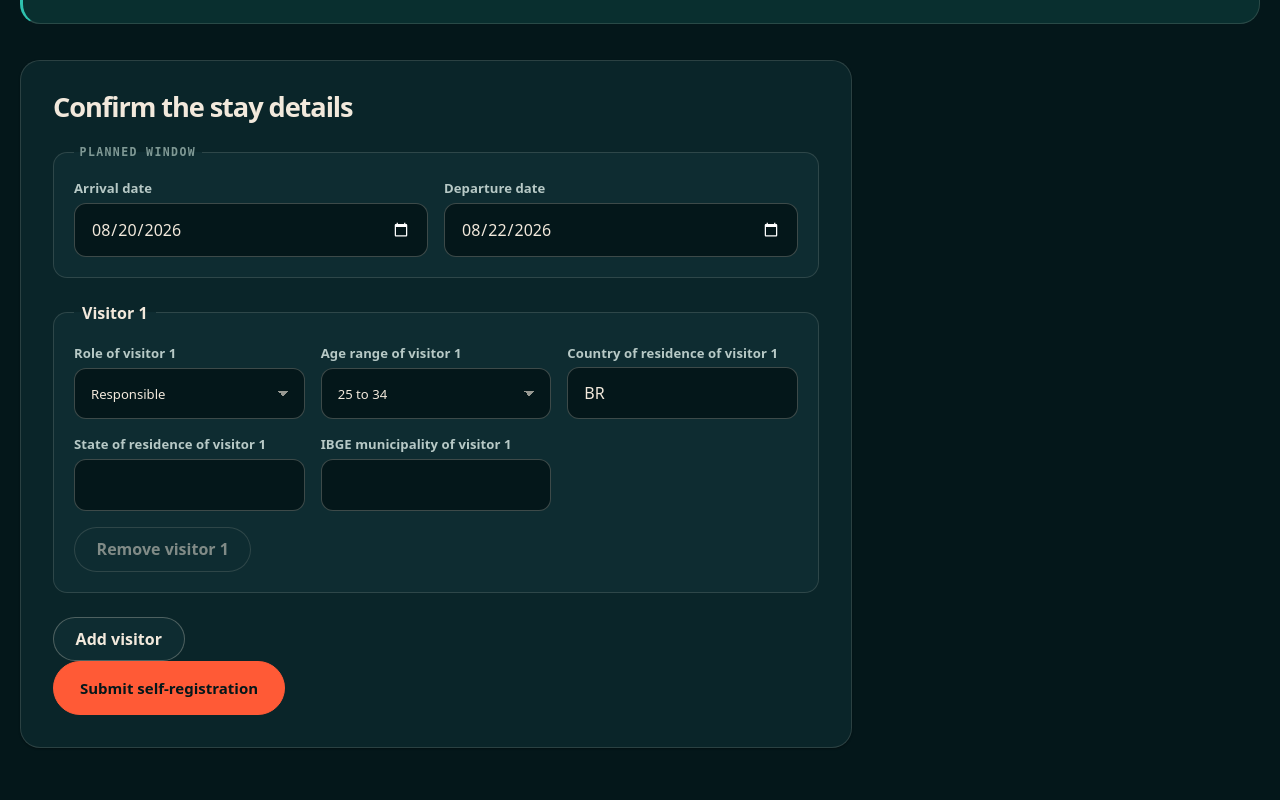
Scenario: i18n do formulário aberto (en) › mostra a confirmação de envio no idioma selecionado
(page scrolled)
Type "BA" into the field labelled "State of residence of visitor 1". click: (189, 485)
box: [74, 459, 305, 511]
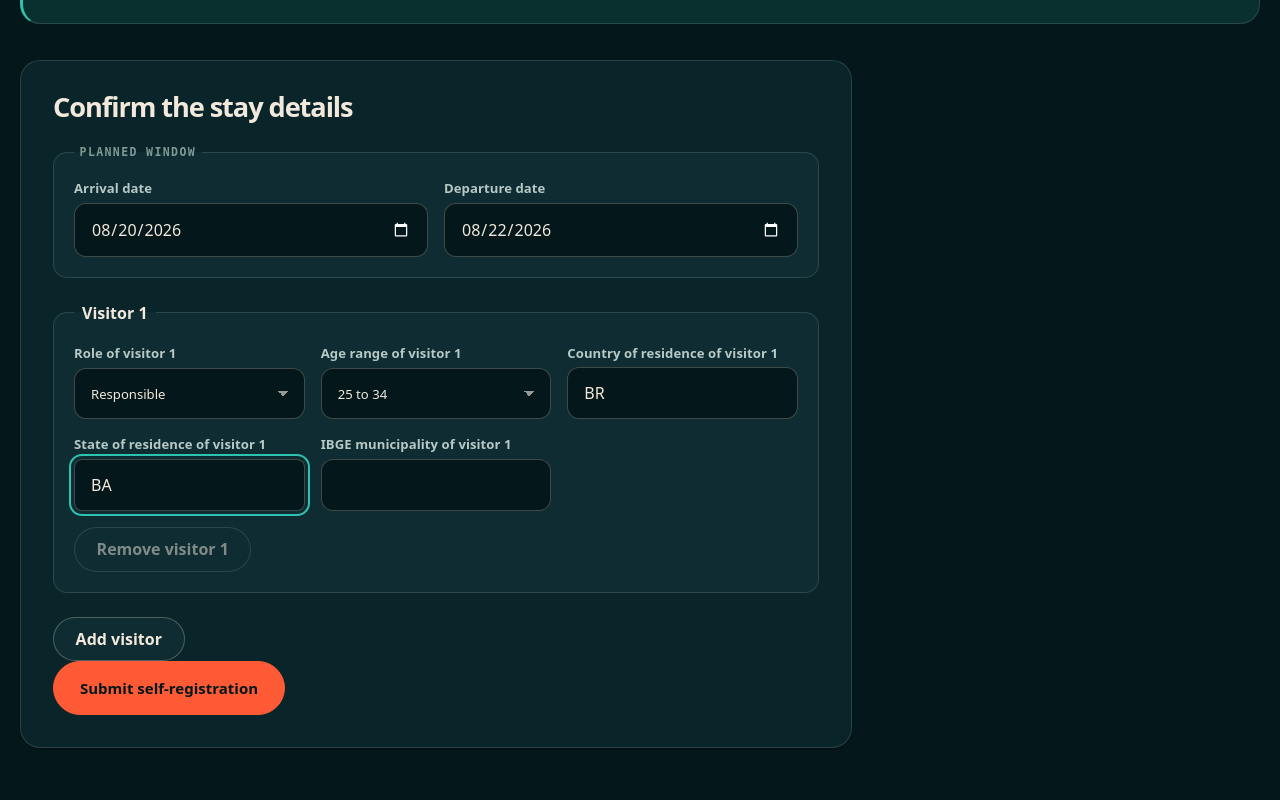
Type "2925509" into the field labelled "IBGE municipality of visitor 1". click: (436, 485)
box: [321, 459, 551, 511]
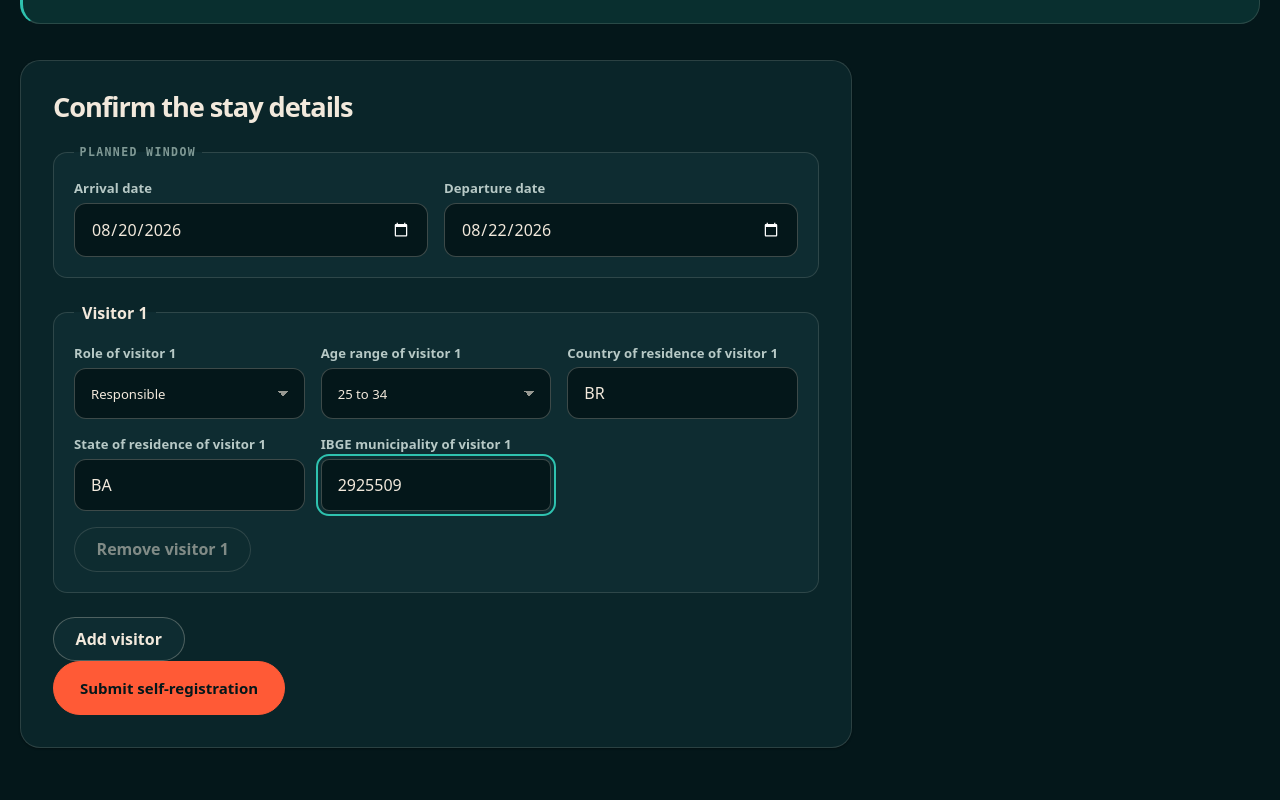
Click the button "Submit self-registration". click: (169, 688)
box: [53, 661, 285, 715]
(page scrolled)
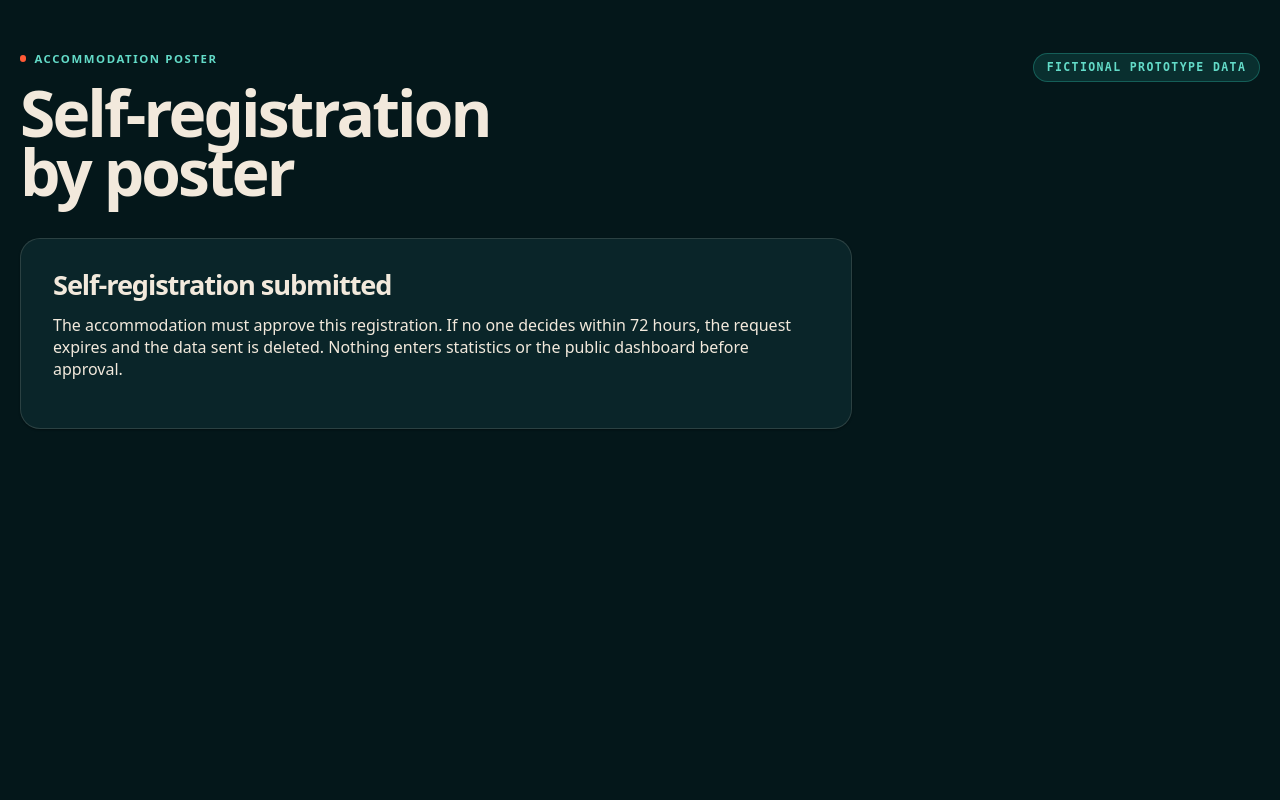
expect the heading "Self-registration submitted" is shown: met, box [53, 266, 392, 302]
